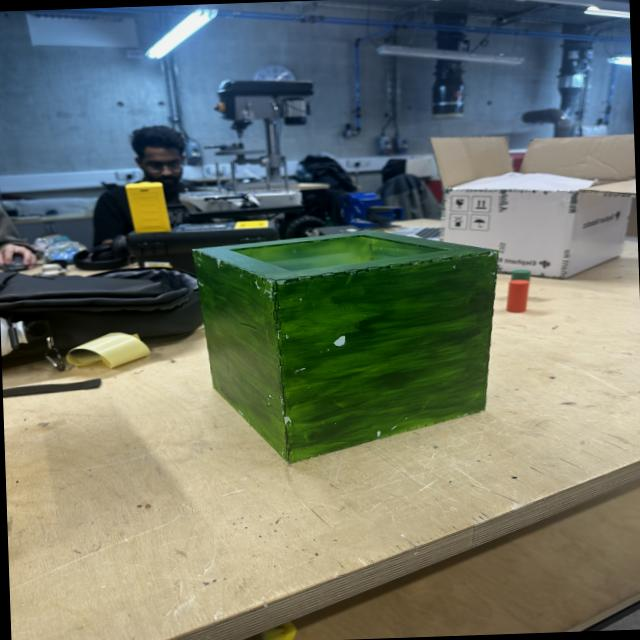green_bin: (191, 225, 506, 468)
